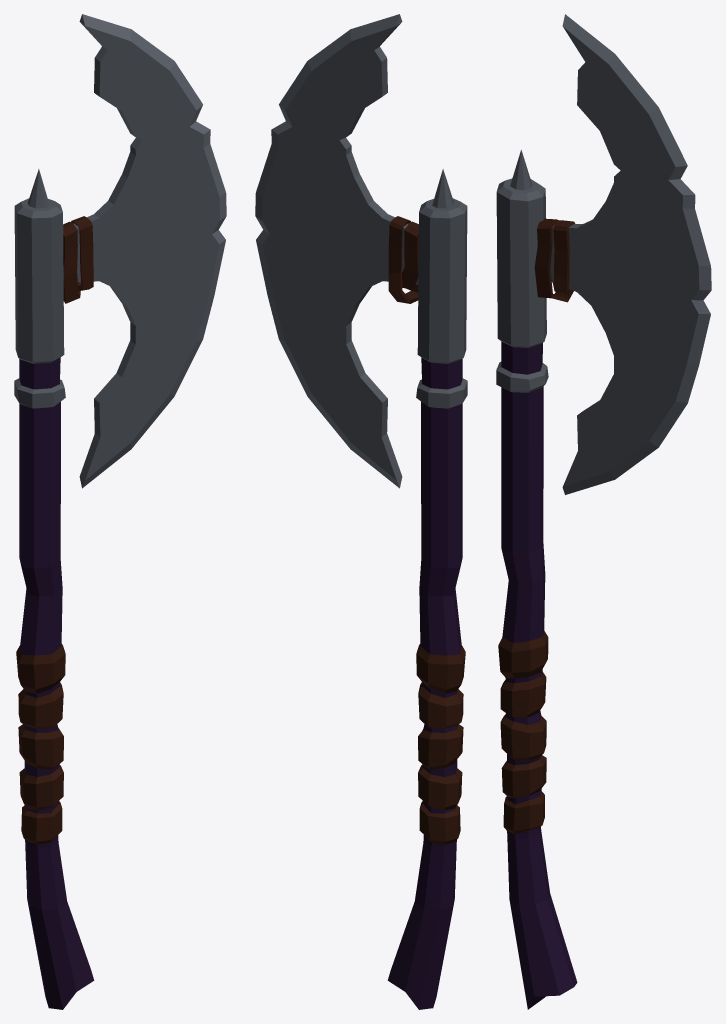
Rendered from Axe.glb.
3 renders of one model, left to right at view 1: azimuth 30°, elevation 25°; view 2: azimuth 150°, elevation 25°; view 3: azimuth 330°, elevation 25°, orthographic.
Parts seen in each view (by area): view 1: Axe; view 2: Axe; view 3: Axe.
Boxes of the visible parts, <box> form: Axe: <box>14,14,226,1009</box>; Axe: <box>255,14,467,1009</box>; Axe: <box>496,14,711,1009</box>.
Size of the model in its own units: 0.1291 by 0.58 by 0.0274.
